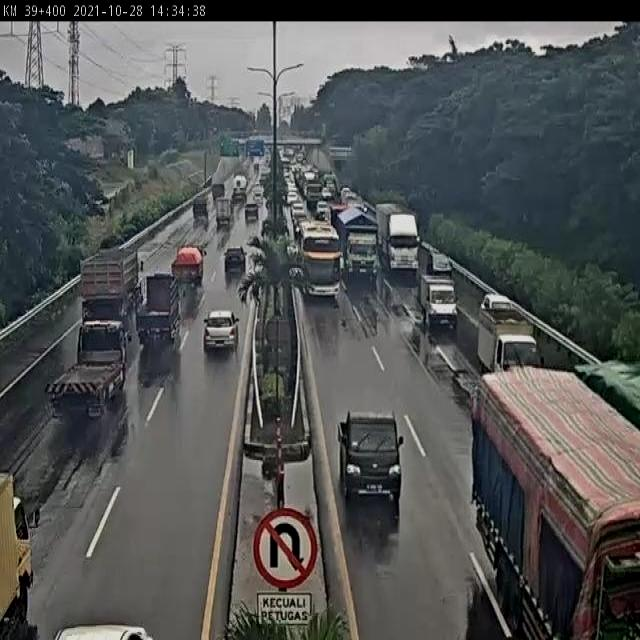Car: (337, 409, 404, 510), (191, 285, 249, 382), (52, 623, 158, 639), (224, 246, 246, 275)
Truck: (466, 368, 637, 640), (46, 320, 129, 420), (0, 478, 33, 638), (80, 244, 140, 330), (478, 294, 536, 374), (136, 270, 181, 350), (298, 222, 343, 302), (376, 204, 418, 280), (530, 316, 580, 373), (247, 435, 312, 478), (419, 272, 457, 334), (380, 272, 418, 328), (138, 335, 176, 390), (344, 229, 377, 283), (309, 298, 341, 352), (264, 316, 292, 368), (172, 246, 206, 286), (64, 135, 104, 163), (261, 464, 281, 516), (388, 212, 418, 245), (177, 285, 202, 322), (424, 250, 453, 281), (100, 135, 130, 163), (260, 444, 280, 483), (326, 201, 349, 234), (304, 175, 324, 212), (481, 293, 517, 313), (49, 389, 69, 419), (215, 196, 232, 231), (408, 316, 423, 354), (224, 266, 244, 294), (192, 195, 210, 226), (165, 158, 196, 176), (293, 166, 309, 198), (183, 242, 208, 262), (290, 267, 305, 296), (291, 210, 306, 239), (216, 222, 232, 249), (243, 200, 260, 224), (303, 168, 319, 192), (232, 181, 248, 205), (328, 145, 354, 159), (92, 198, 110, 216), (291, 200, 306, 220), (243, 156, 256, 179), (261, 218, 275, 239), (211, 182, 225, 202), (340, 186, 355, 204), (251, 136, 265, 155), (261, 159, 271, 185), (29, 507, 41, 528), (370, 305, 378, 336), (246, 235, 262, 250), (259, 171, 269, 194), (291, 164, 303, 183), (286, 243, 298, 262), (252, 186, 264, 204), (281, 148, 293, 166), (253, 257, 265, 275), (286, 191, 299, 207), (234, 131, 248, 145), (338, 422, 346, 446), (363, 203, 376, 217), (321, 187, 333, 202), (237, 138, 247, 156), (219, 137, 229, 154), (162, 148, 178, 158), (283, 167, 292, 184), (281, 188, 290, 205), (202, 175, 212, 189), (230, 142, 240, 156), (330, 137, 342, 148), (277, 144, 287, 157), (265, 143, 273, 159), (296, 152, 304, 164), (210, 126, 218, 138), (265, 152, 271, 166), (322, 122, 326, 140), (140, 260, 144, 270)
